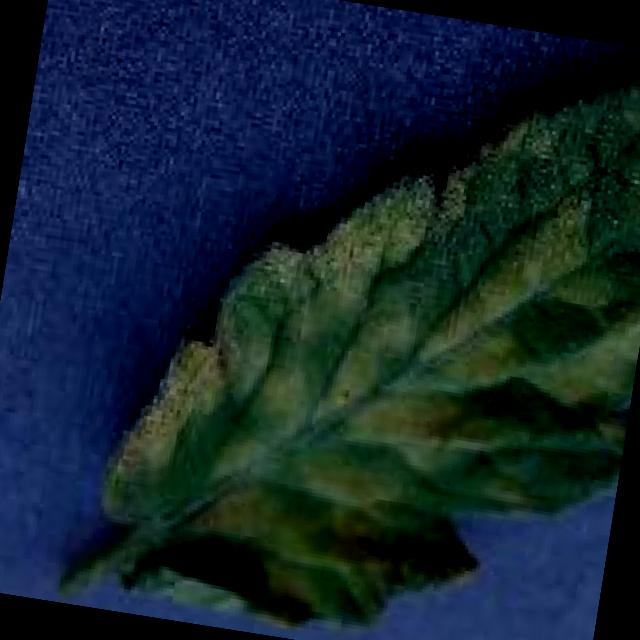leaf mold: (73, 64, 640, 632)
